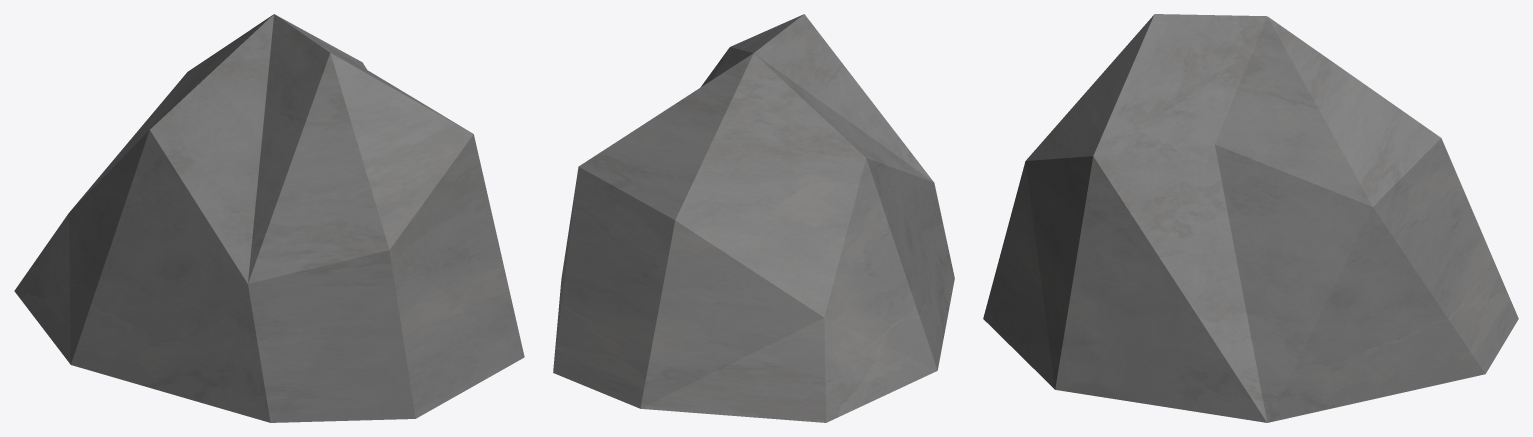
Rendered from bigstone2.fbx.
3 views of the same model, side by side, from view 1: azimuth 30°, elevation 25°; view 2: azimuth 150°, elevation 25°; view 3: azimuth 270°, elevation 25° (orthographic). The views are drawn at different scales.
Parts seen in each view (by area): view 1: bigstoon2; view 2: bigstoon2; view 3: bigstoon2.
Part boxes in pixels (x1,y1,x2,y2): bigstoon2: (14,14,524,422); bigstoon2: (553,14,954,422); bigstoon2: (983,14,1518,422).
Bounding box in the file's own units: 5.08 × 3.54 × 5.64.
1 material, 1 textured.
